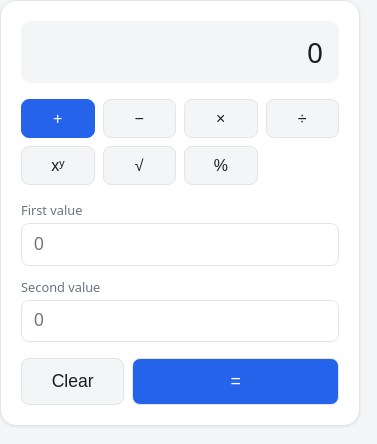
Test: Calculator › shows the server result after a successful calculation
Type "2" into the number field labelled "First value" at (180, 244), box [21,223,339,266]
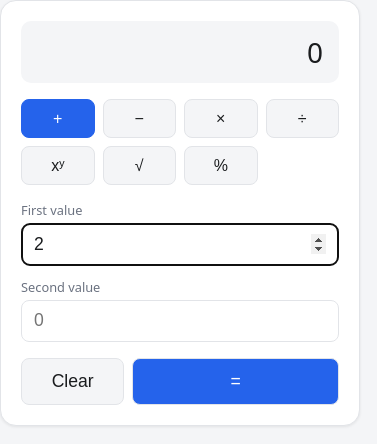
Type "3" into the number field labelled "Second value" at (180, 321), box [21,300,339,342]
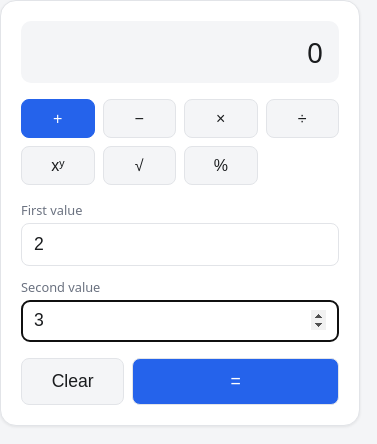
Click the button "=" at (236, 381), box [132,358,339,405]
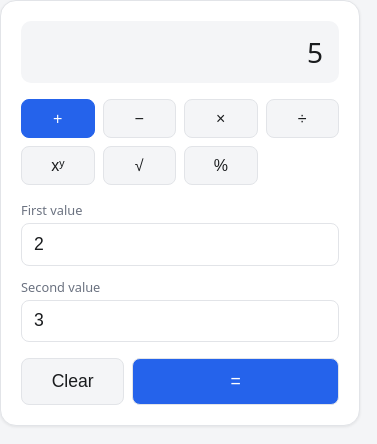
expect the text "5" is shown: met, box [307,33,323,71]
